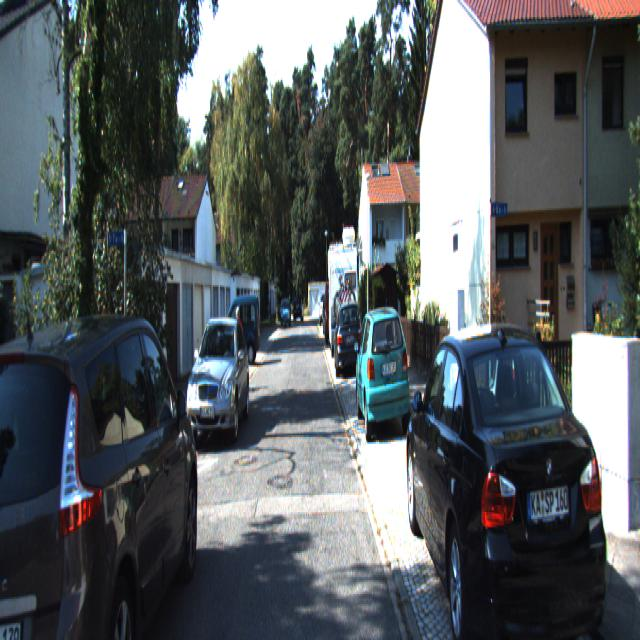Car: (404, 314, 614, 638), (0, 307, 204, 638), (186, 316, 250, 449), (354, 304, 410, 444), (327, 242, 357, 362), (214, 298, 261, 369), (334, 300, 364, 379), (280, 298, 291, 328)
